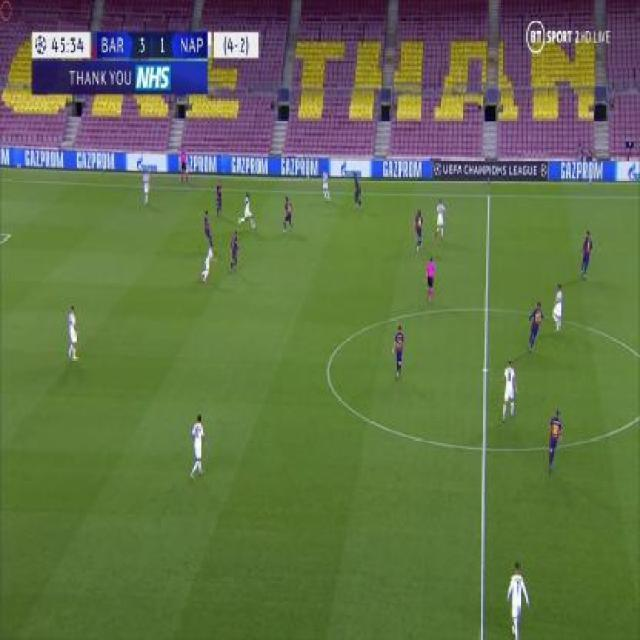player: (505, 557, 530, 639), (190, 411, 207, 479), (500, 355, 517, 423), (546, 403, 562, 474), (525, 299, 544, 353), (391, 321, 407, 381), (66, 301, 80, 364), (198, 244, 217, 284), (579, 227, 593, 281), (550, 281, 564, 334), (239, 188, 255, 231), (201, 211, 217, 254), (424, 253, 437, 304), (433, 196, 447, 242), (411, 206, 424, 252), (139, 165, 153, 204), (281, 194, 294, 234), (229, 229, 240, 275), (352, 169, 363, 209), (179, 146, 190, 185), (320, 165, 331, 201), (214, 176, 223, 216)
